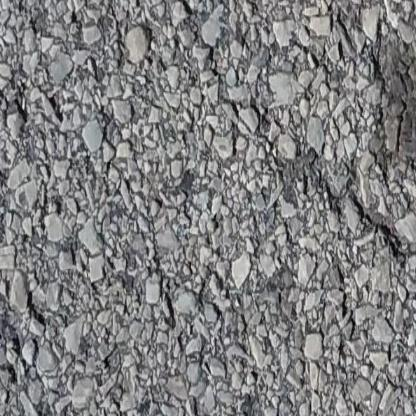Cracks: (310, 140, 416, 306), (174, 0, 243, 120)
